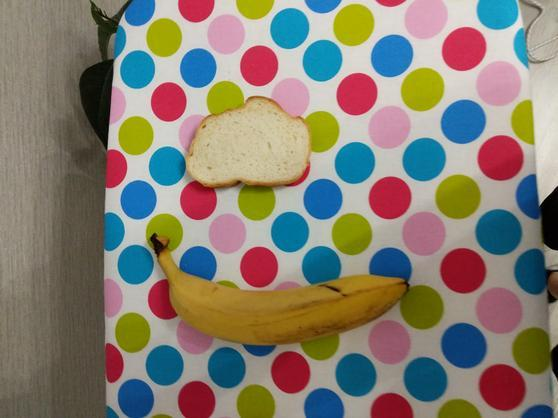banana: (146, 224, 431, 349)
white_bread: (170, 84, 325, 199)
